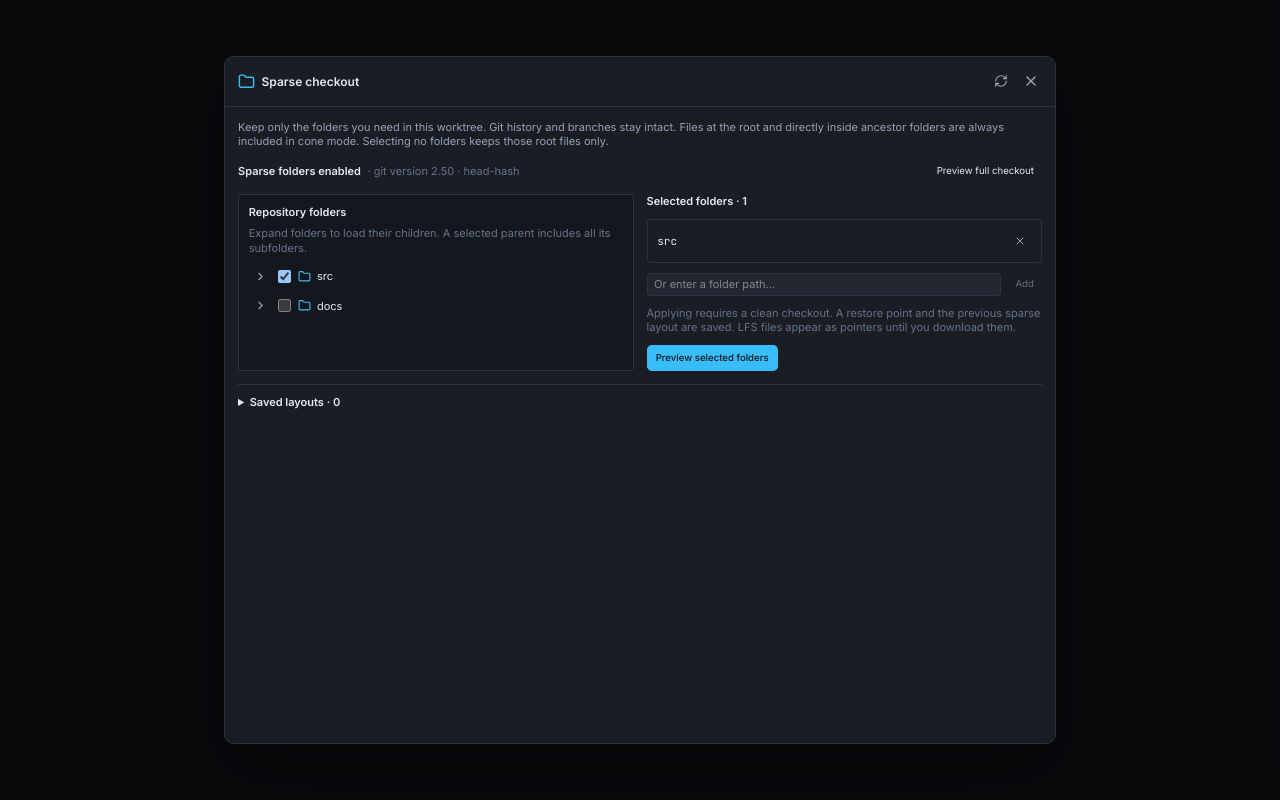
Test: removes a selected sparse folder and refreshes an unborn checkout without listing directories
Type "src" into the field named "Repository directory path" at x=824, y=284, box x1=646 y1=273 x2=1001 y2=296
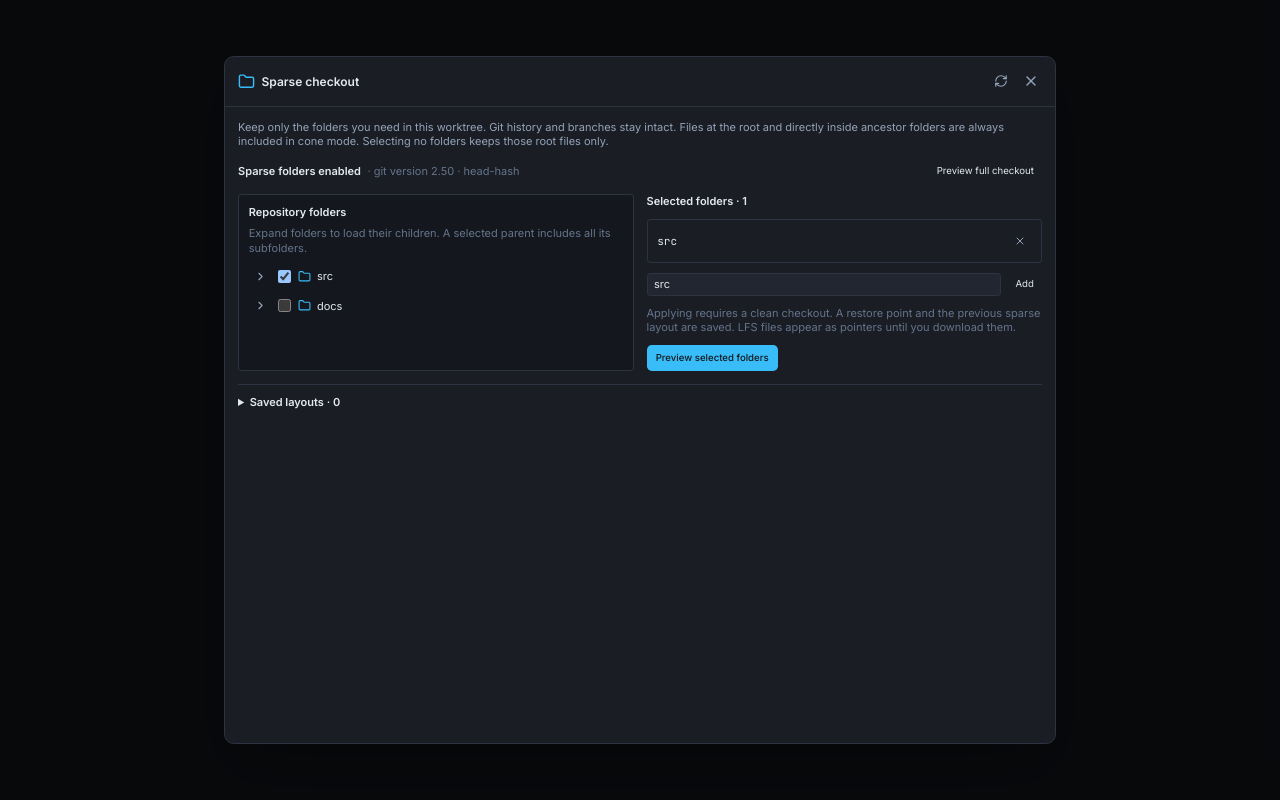
Click the button "Add" at x=1025, y=284, box x1=1007 y1=273 x2=1042 y2=296
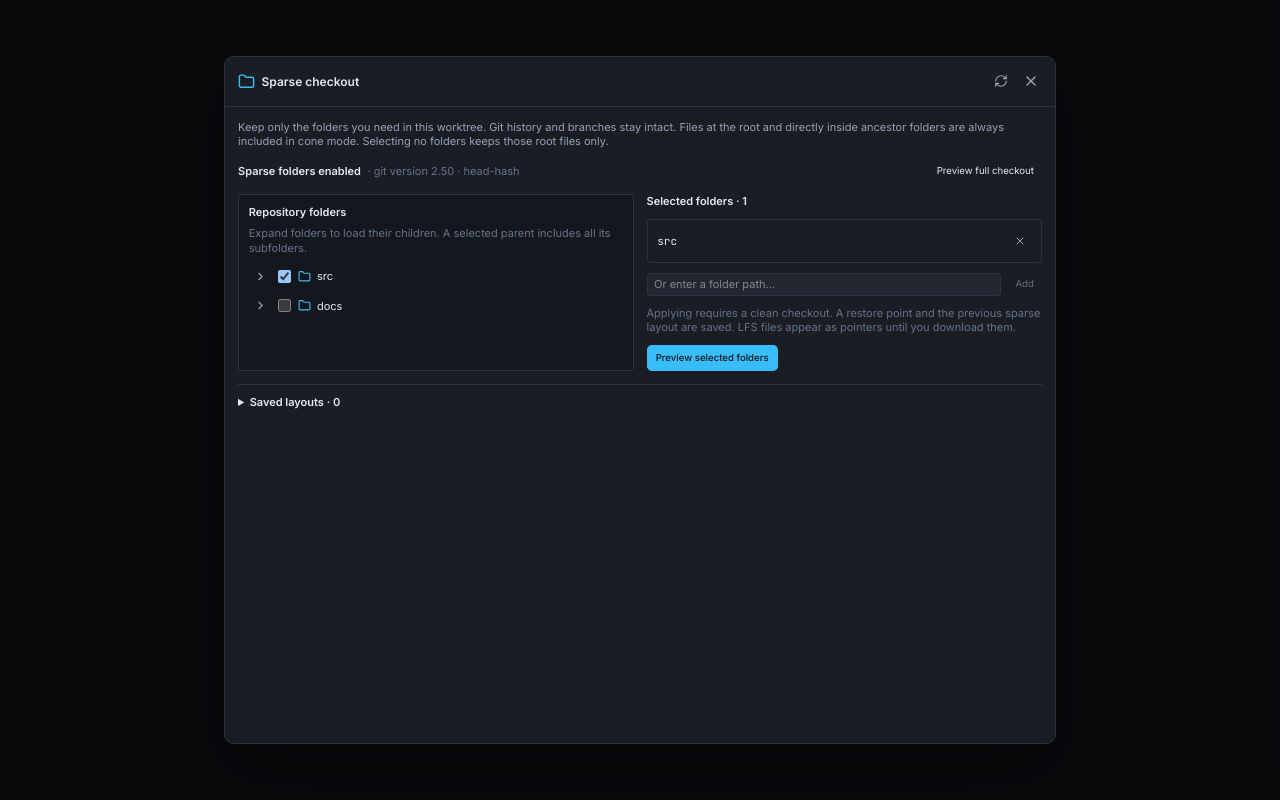
Expected: the heading "Selected folders · 1" is shown, x1=646 y1=194 x2=747 y2=208
Click the button named "Remove src" at x=1020, y=241, box x1=1008 y1=230 x2=1031 y2=252
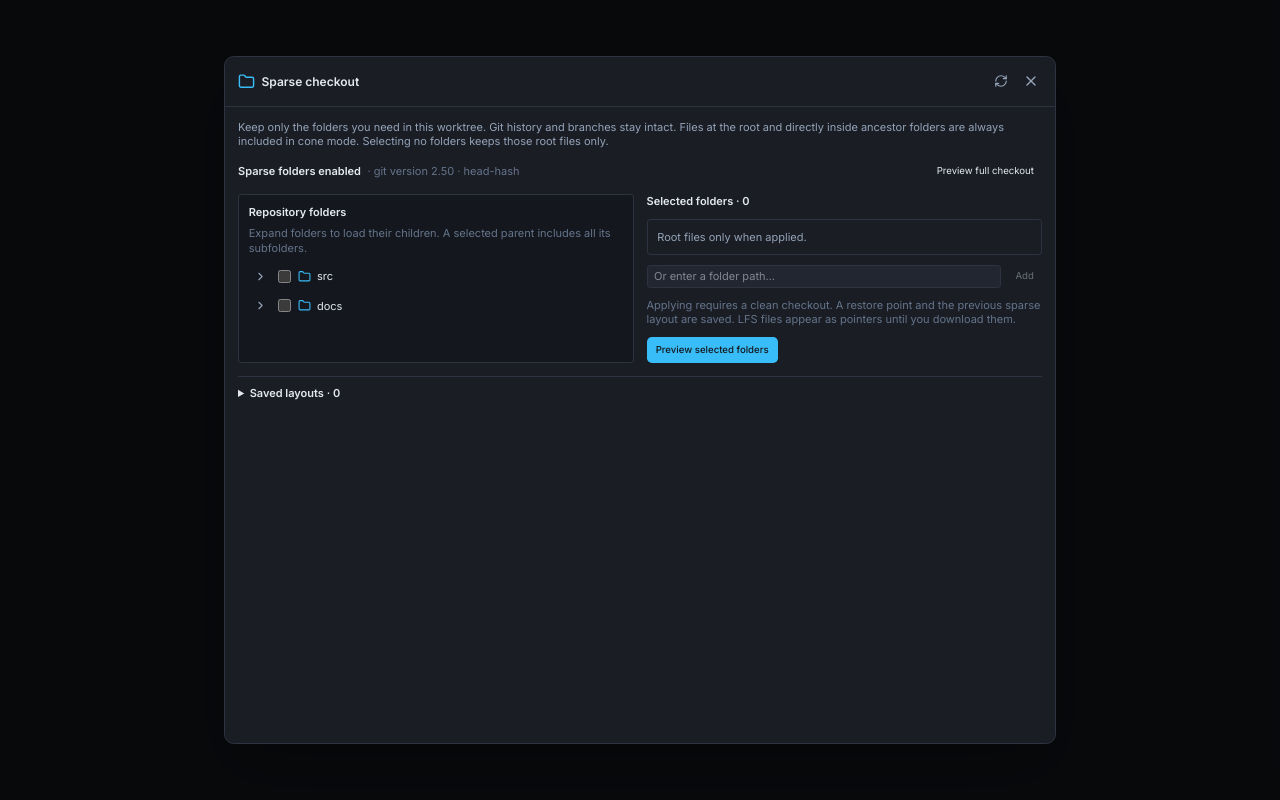
Result: the heading "Selected folders · 0" is shown at x1=646 y1=194 x2=750 y2=208
Result: the checkbox named "Include src" is not checked at x1=278 y1=270 x2=291 y2=283
Click the button titled "Refresh layout" at x=1001, y=81, box x1=990 y1=70 x2=1013 y2=93
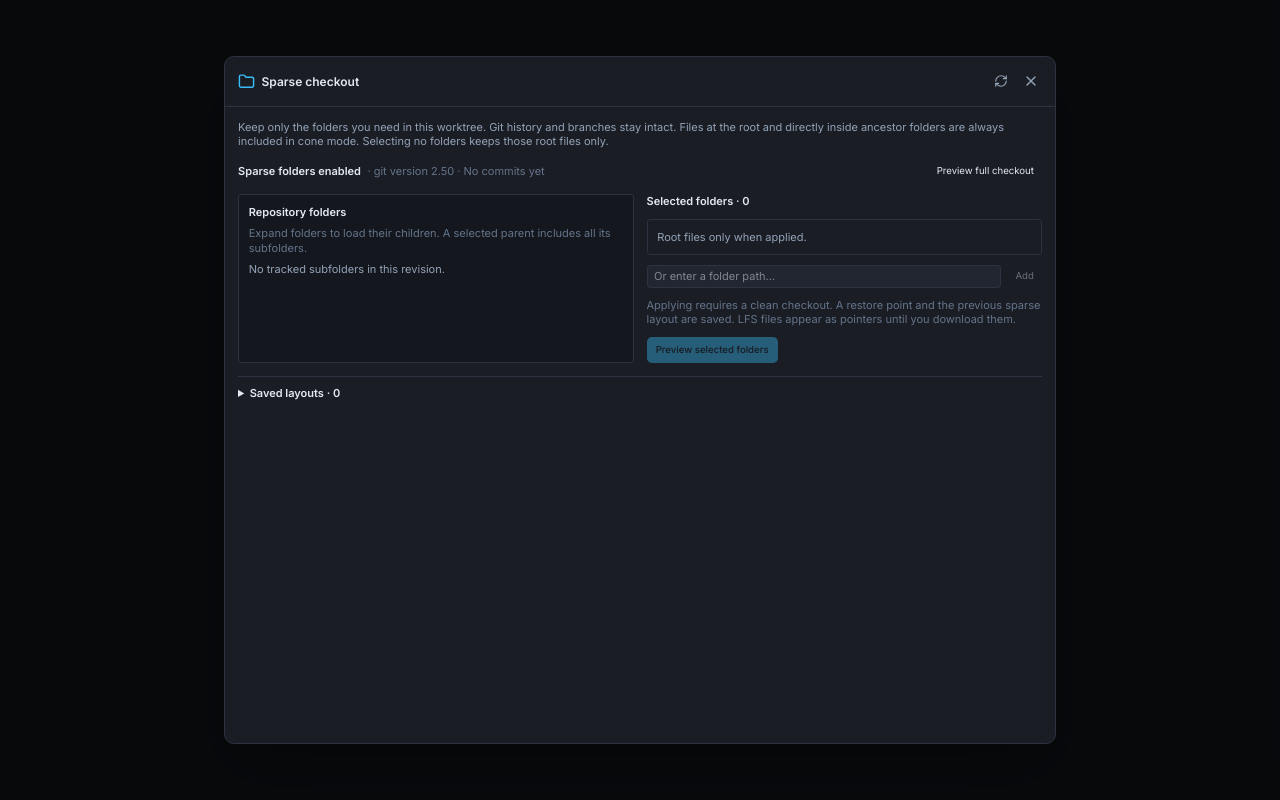
Result: the text "No tracked subfolders in this revision." is shown at x1=249 y1=262 x2=445 y2=276
